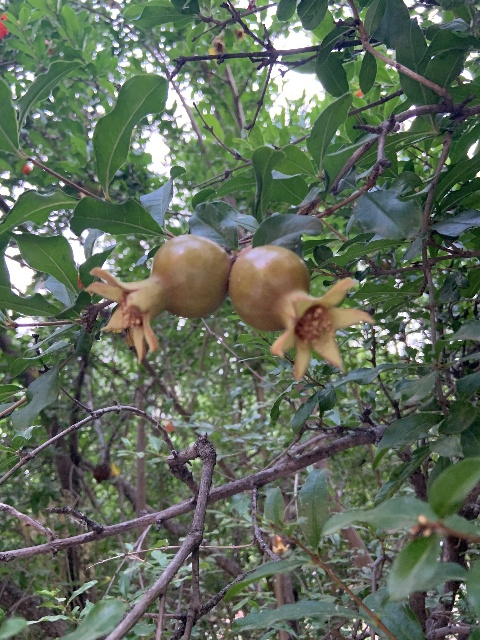early-fruit: (228, 245, 374, 380), (82, 235, 231, 363), (271, 534, 289, 553)
